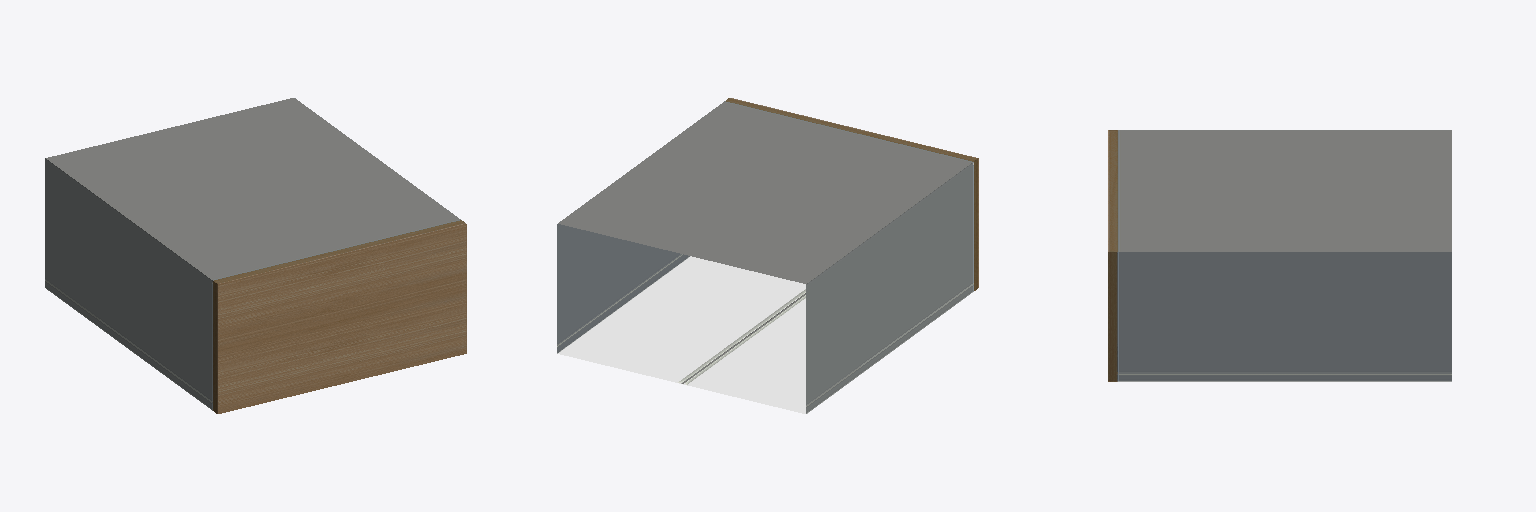
3 views of the same model, side by side, from view 1: azimuth 30°, elevation 25°; view 2: azimuth 150°, elevation 25°; view 3: azimuth 270°, elevation 25° (orthographic).
Visible parts, largest first — view 1: WhiteCabinet; view 2: WhiteCabinet; view 3: WhiteCabinet.
Boxes of the visible parts, x1,y1,x2,y2 form: WhiteCabinet: [45, 98, 466, 413]; WhiteCabinet: [557, 98, 978, 413]; WhiteCabinet: [1108, 130, 1451, 381].
Size of the model in its own units: 0.9 by 0.45 by 1.08.
Materials: 1 (1 with a texture image).